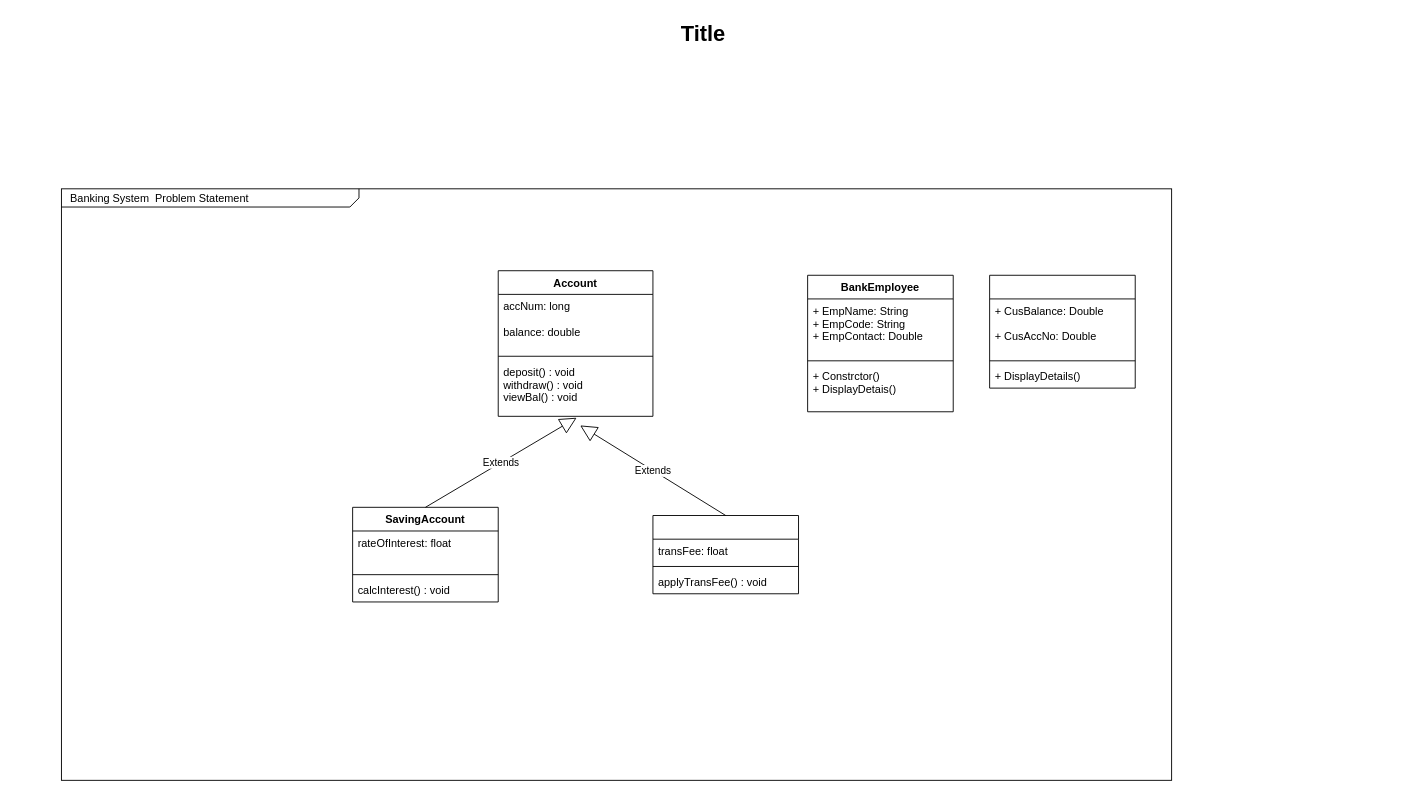
Image size: 1405x796. Some labels were removed from this diagram. The shapes that lost their labels are listed below. From the top down, each one's box as (x1, y1, x2, y2) in pixels, then its label:
(989, 274, 1135, 388): Customer
(652, 515, 799, 594): CurrentAccount
